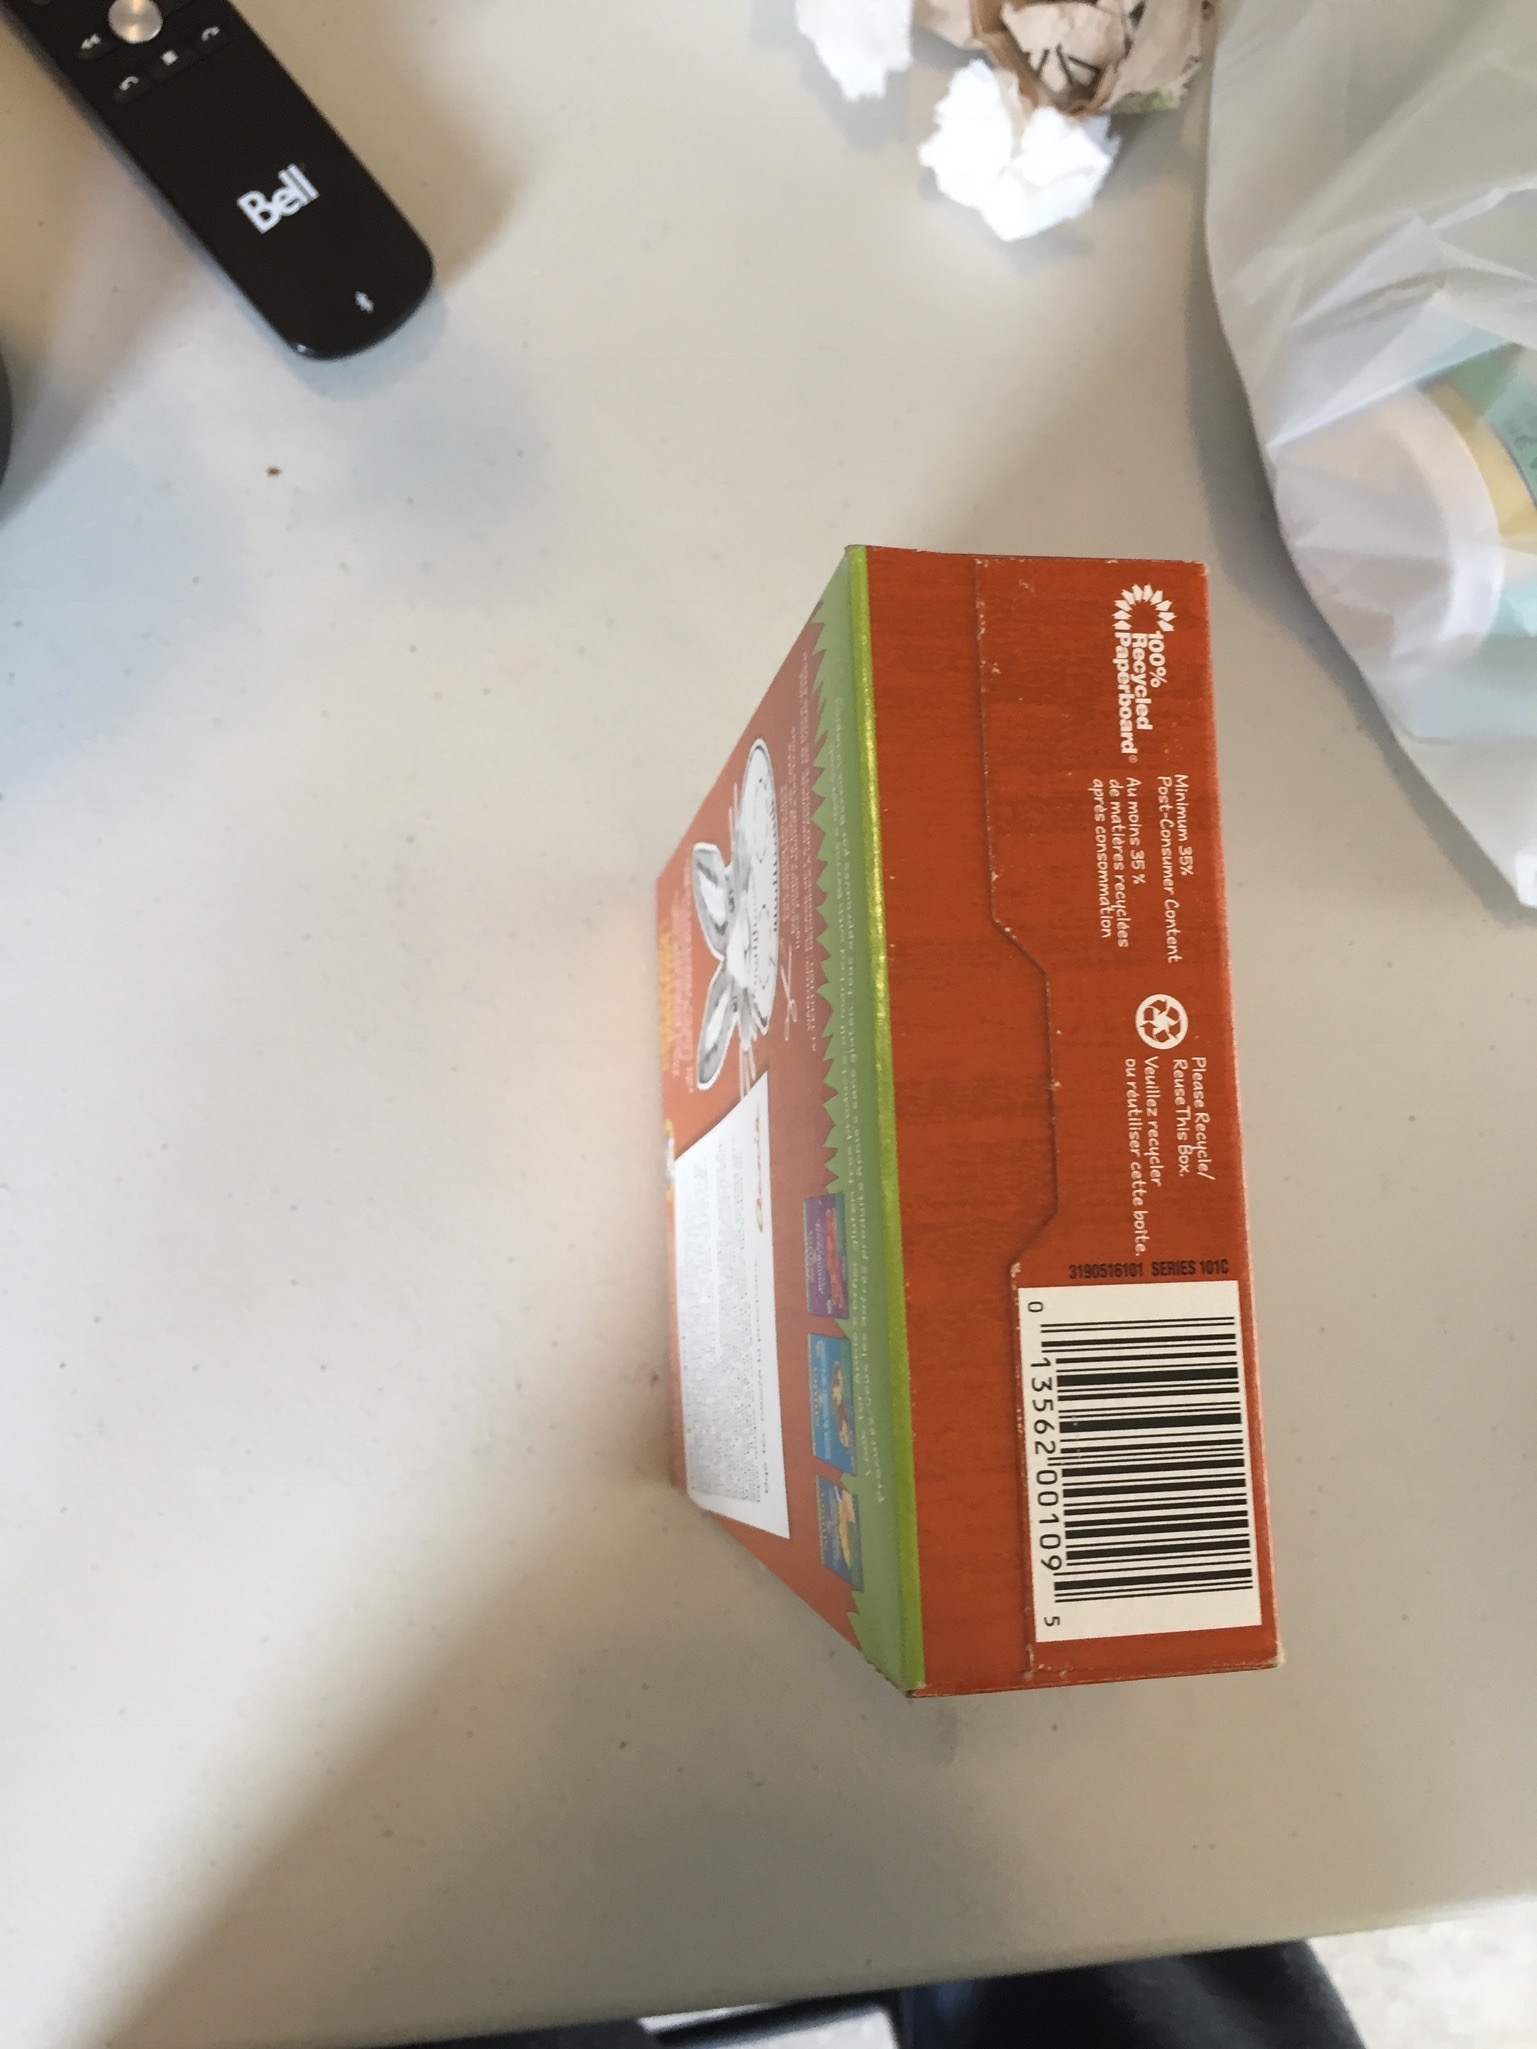annies_snickerdoodle_cinnamon_sugar: (861, 555, 1238, 1679)
